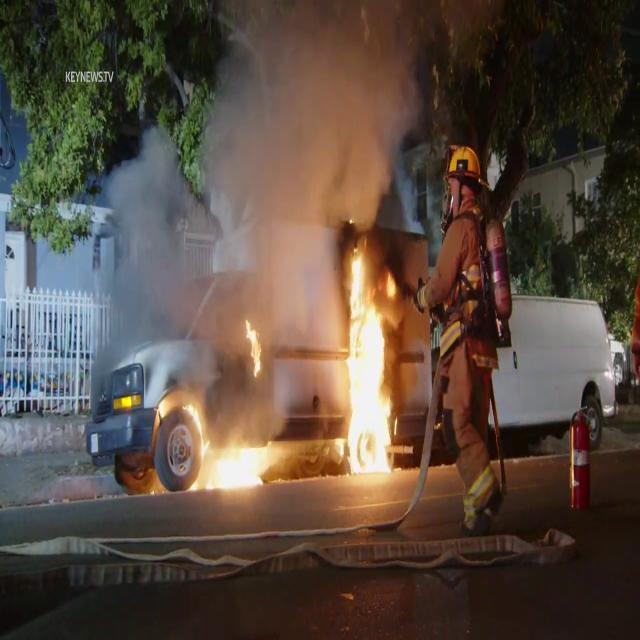Fire: (334, 242, 400, 476), (188, 430, 280, 497), (241, 318, 265, 375)
Smoke: (85, 0, 437, 354)
